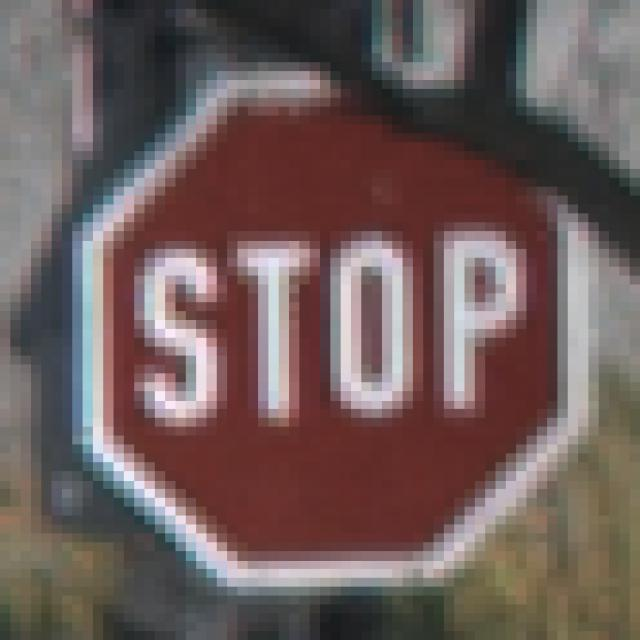STOP: (63, 63, 589, 588)
